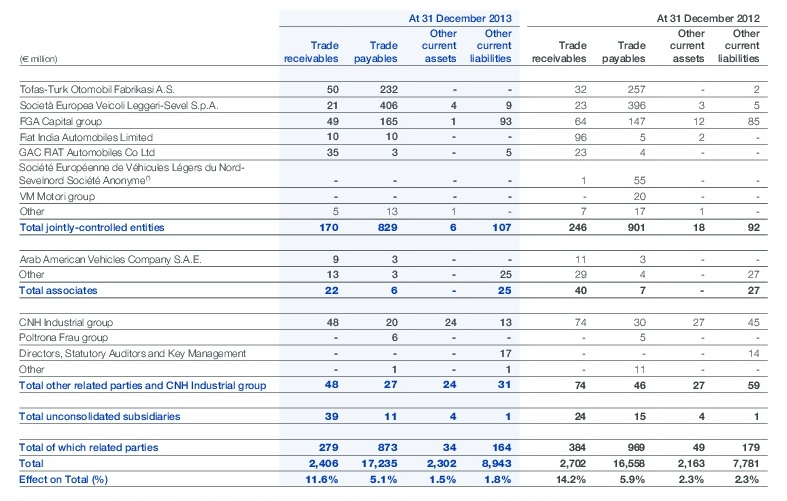table: (0, 0, 787, 501)
